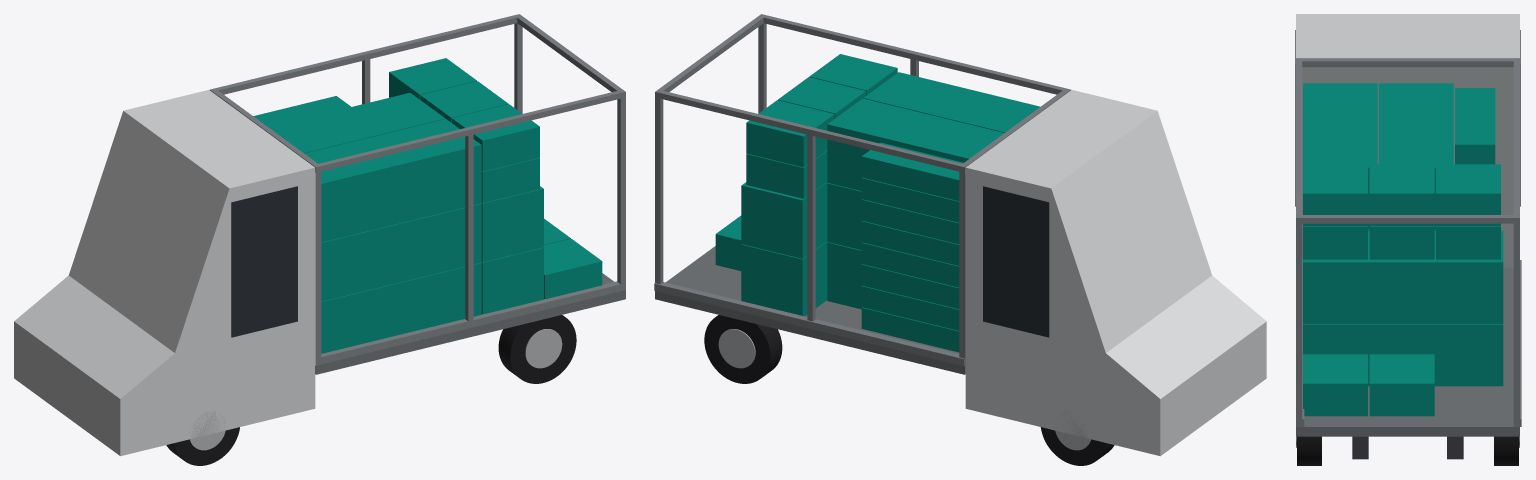
The model's file is van-TR06.glb.
3 renders of one model, left to right at view 1: azimuth 30°, elevation 25°; view 2: azimuth 150°, elevation 25°; view 3: azimuth 270°, elevation 25°, orthographic. The views are drawn at different scales.
Visible parts, largest first — view 1: cabine, part31, part29, janela, part27, part32, part34, part33, part11, part46, piso, part23 (+16 smaller); view 2: cabine, janela, part32, piso, part31, part34, part33, part48, part13, part42, part25, part12 (+23 smaller); view 3: part34, cabine, part33, piso, frente, part31, part32, part50, part49, part47, part46, part48 (+15 smaller).
Boxes of the visible parts, box(x1,y1,x2,y2) form: cabine: box(14, 90, 315, 456); part31: box(305, 119, 481, 242); part29: box(321, 203, 481, 301); janela: box(231, 186, 297, 337); part27: box(321, 262, 481, 353); part32: box(269, 93, 445, 153); part34: box(481, 186, 543, 261); part33: box(481, 247, 543, 314); part11: box(316, 281, 625, 364); part46: box(452, 104, 539, 171); piso: box(315, 273, 625, 374); part23: box(498, 315, 576, 383); cabine: box(965, 90, 1266, 456); janela: box(983, 186, 1049, 337); part32: box(827, 98, 1004, 190); piso: box(655, 246, 965, 374); part31: box(863, 72, 1039, 132); part34: box(741, 182, 827, 258); part33: box(741, 241, 827, 316); part48: box(746, 100, 834, 167); part13: box(654, 282, 964, 366); part42: box(861, 142, 963, 200); part25: box(704, 315, 782, 383); part12: box(655, 89, 967, 172); part34: box(1303, 230, 1503, 323); cabine: box(1296, 14, 1519, 58); part33: box(1303, 324, 1503, 386); piso: box(1296, 267, 1519, 436); frente: box(1302, 67, 1513, 267); part31: box(1303, 83, 1377, 229); part32: box(1379, 83, 1453, 229); part50: box(1369, 354, 1434, 416); part49: box(1303, 354, 1367, 416); part47: box(1369, 164, 1434, 226); part46: box(1303, 164, 1367, 226); part48: box(1436, 164, 1500, 226).
Bounding box in the file's own units: 5.19 × 2.66 × 1.91.
